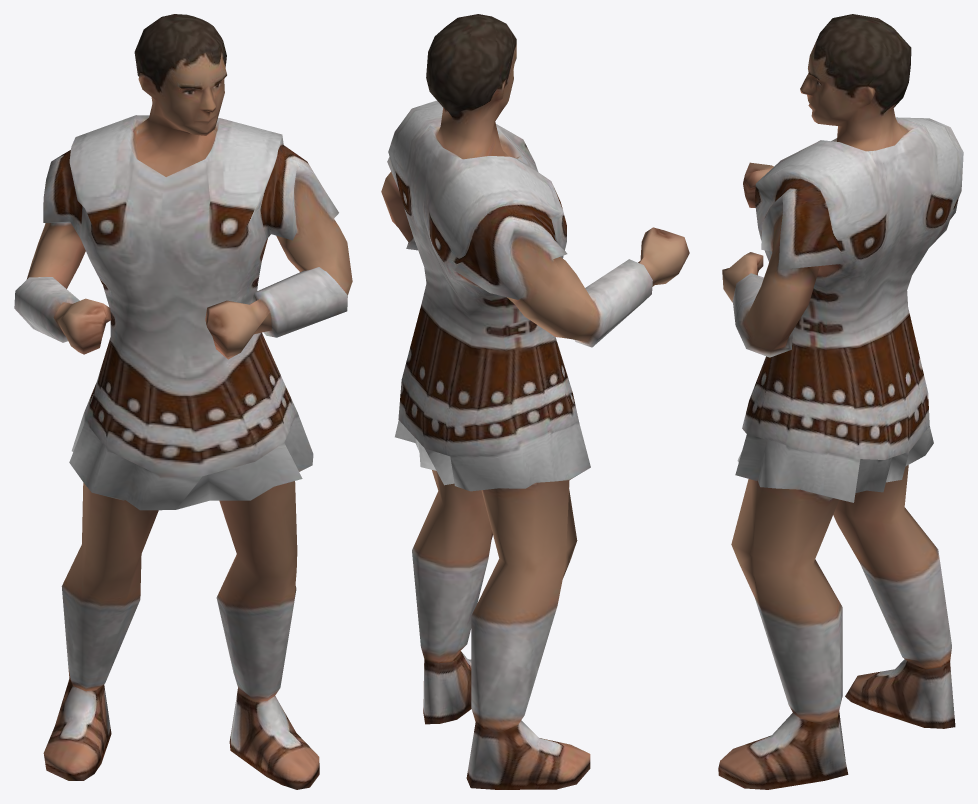
Rendered from body-heavyinfantry.glb.
3 views of the same model, side by side, from view 1: azimuth 30°, elevation 25°; view 2: azimuth 150°, elevation 25°; view 3: azimuth 270°, elevation 25° (orthographic).
Size of the model in its own units: 0.8493 by 2.06 by 0.6259.
1 material, 1 textured.
